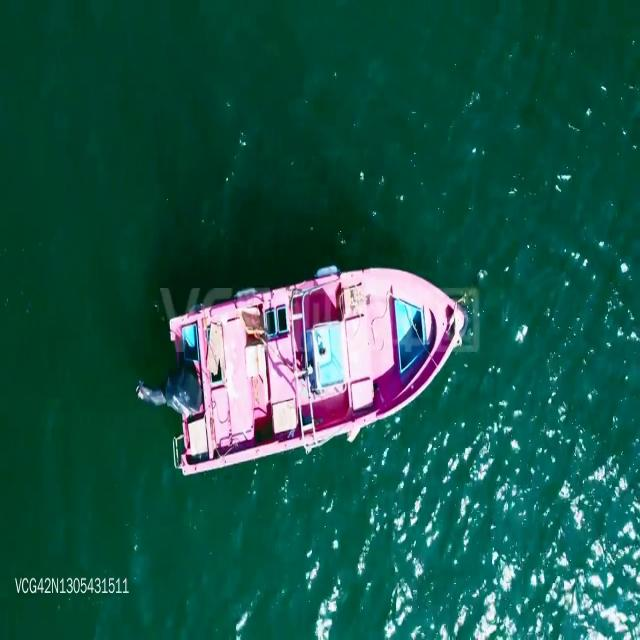houseboat: (158, 259, 468, 481)
